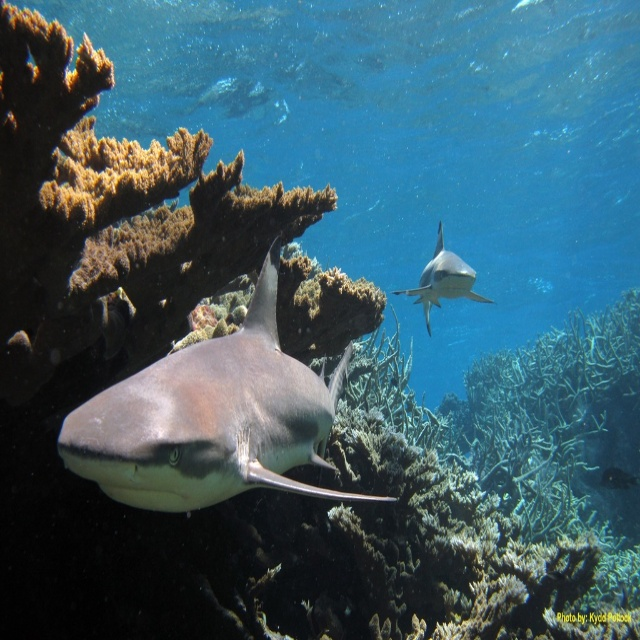Shark: (60, 229, 398, 516), (395, 219, 497, 335)
